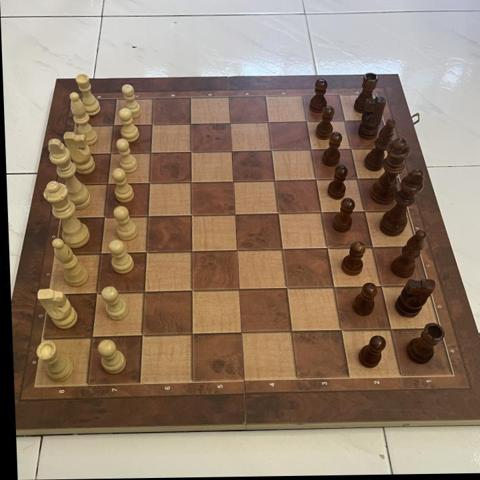xcorner: (337, 113, 355, 131), (146, 116, 164, 134), (268, 172, 286, 190), (357, 203, 375, 221), (233, 281, 251, 299), (334, 321, 352, 339), (262, 114, 279, 132), (223, 115, 241, 132), (107, 117, 125, 134), (343, 141, 361, 158), (304, 142, 322, 159), (265, 142, 282, 160), (145, 144, 162, 162), (104, 145, 122, 162), (350, 171, 368, 188), (309, 172, 327, 189), (227, 173, 244, 191), (185, 174, 203, 191), (143, 175, 161, 192), (101, 176, 119, 193), (315, 204, 332, 222), (272, 205, 289, 223), (229, 206, 246, 224), (185, 207, 203, 224), (365, 239, 383, 256), (140, 244, 157, 262), (94, 245, 111, 263), (374, 277, 391, 295), (327, 279, 345, 296), (280, 280, 298, 297), (186, 282, 203, 300), (383, 320, 401, 337), (285, 323, 303, 340), (236, 324, 253, 342), (136, 327, 153, 345), (85, 329, 103, 346), (300, 114, 317, 131), (185, 116, 202, 133), (225, 143, 242, 160), (185, 144, 202, 161), (142, 208, 159, 225), (98, 209, 115, 226), (321, 240, 338, 257), (276, 241, 293, 258), (231, 242, 248, 259), (186, 243, 203, 260), (138, 284, 155, 301), (90, 285, 107, 302), (186, 326, 203, 343)
